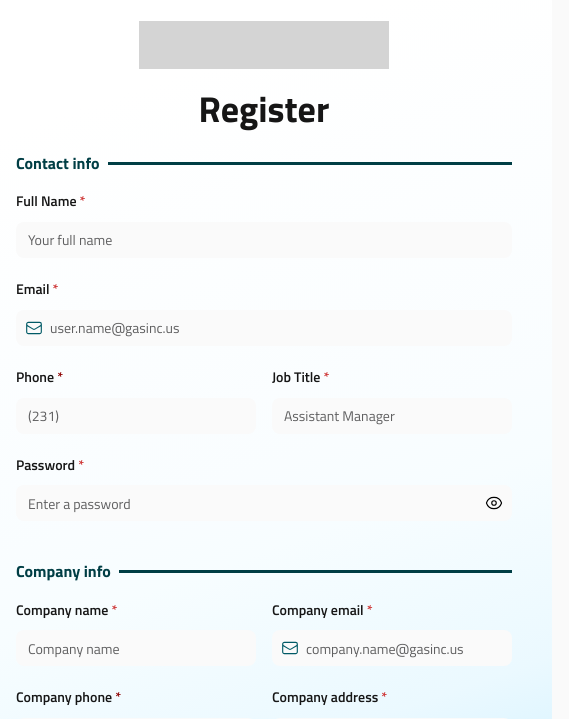
Test case: RegisterForm Component › should show error for company email when it's not a valid email
The width and height of the screenshot is (569, 719).
In the field with test id "company-email-input": (392, 648) [272,630,512,666], type "example"
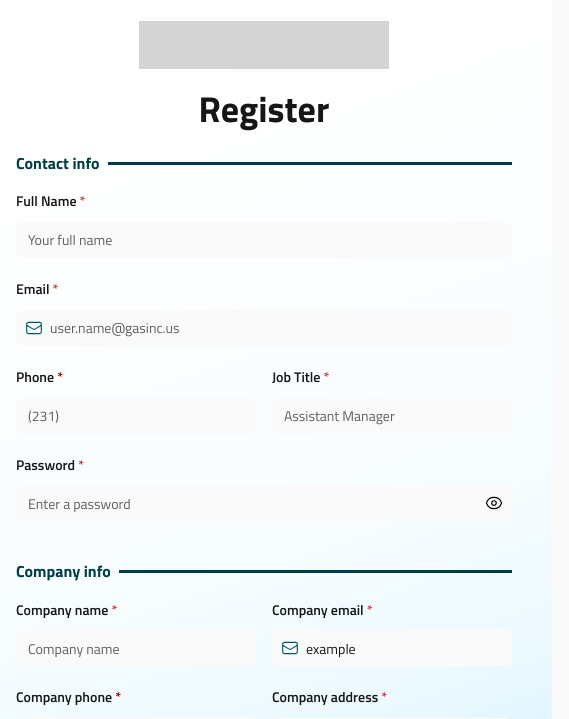
Press Tab
(page scrolled)
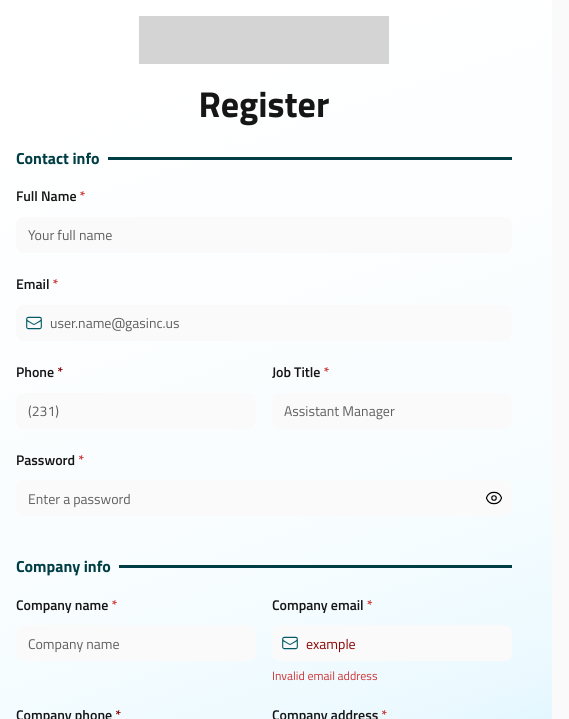
Expected: the text "Invalid email address" is shown, [272,666,378,685]
